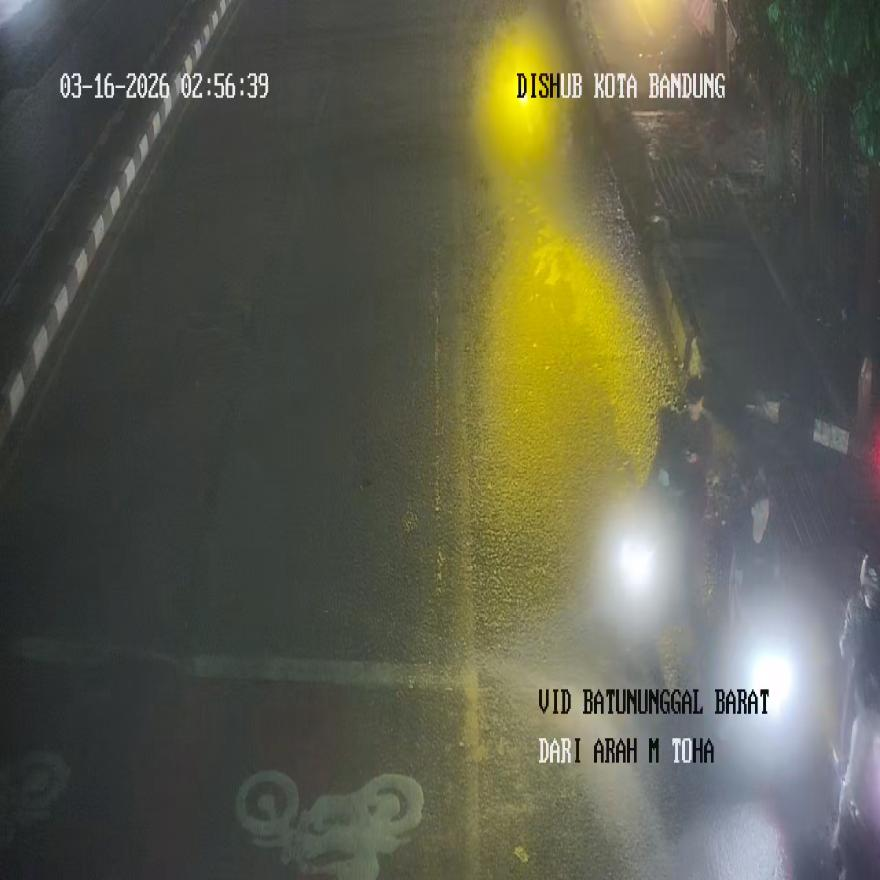Motor: (610, 516, 671, 614), (746, 605, 791, 732)
